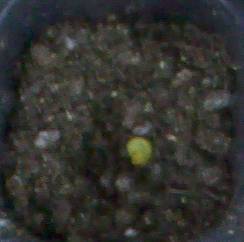pepper seed: (49, 52, 203, 220)
